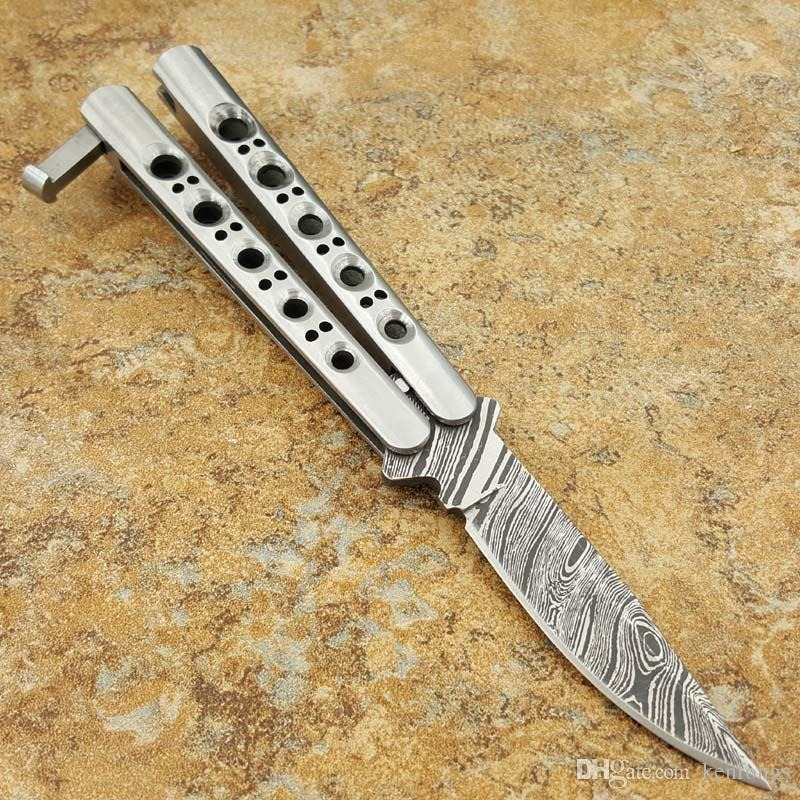knife: (28, 35, 773, 792)
